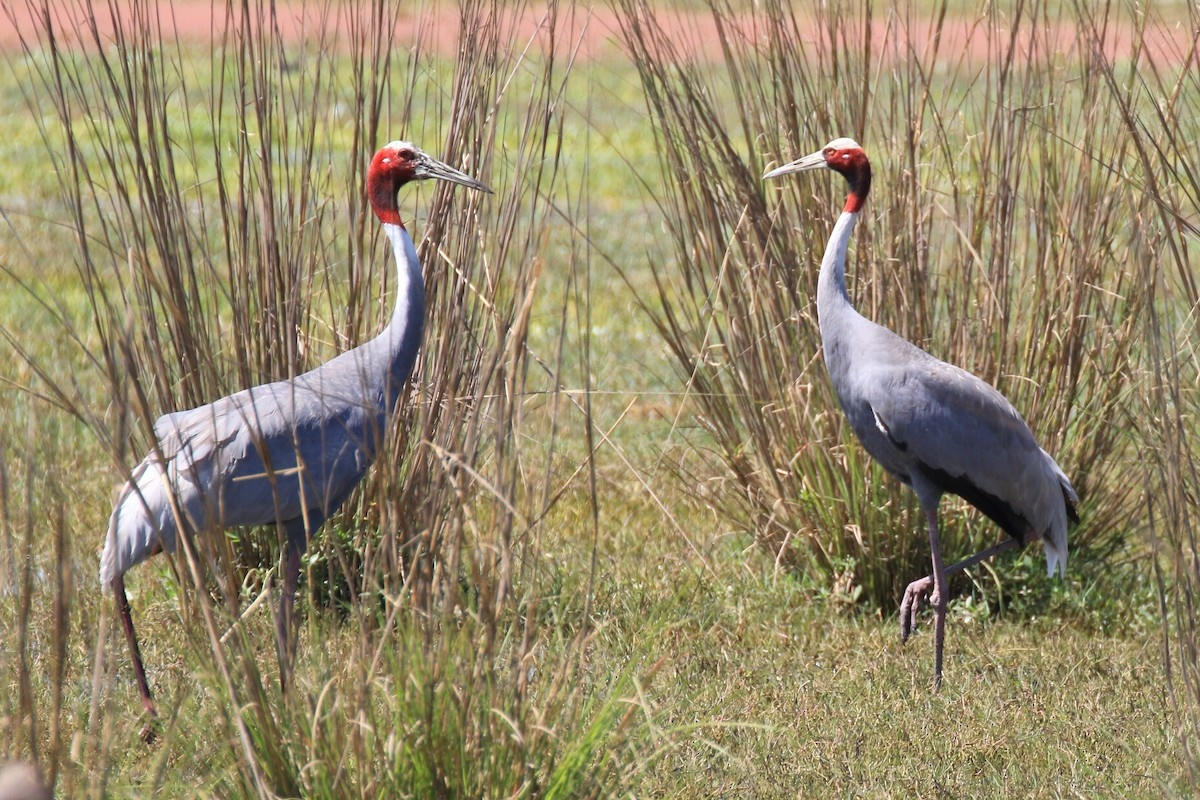crane: (65, 124, 496, 649), (752, 129, 1088, 671)
